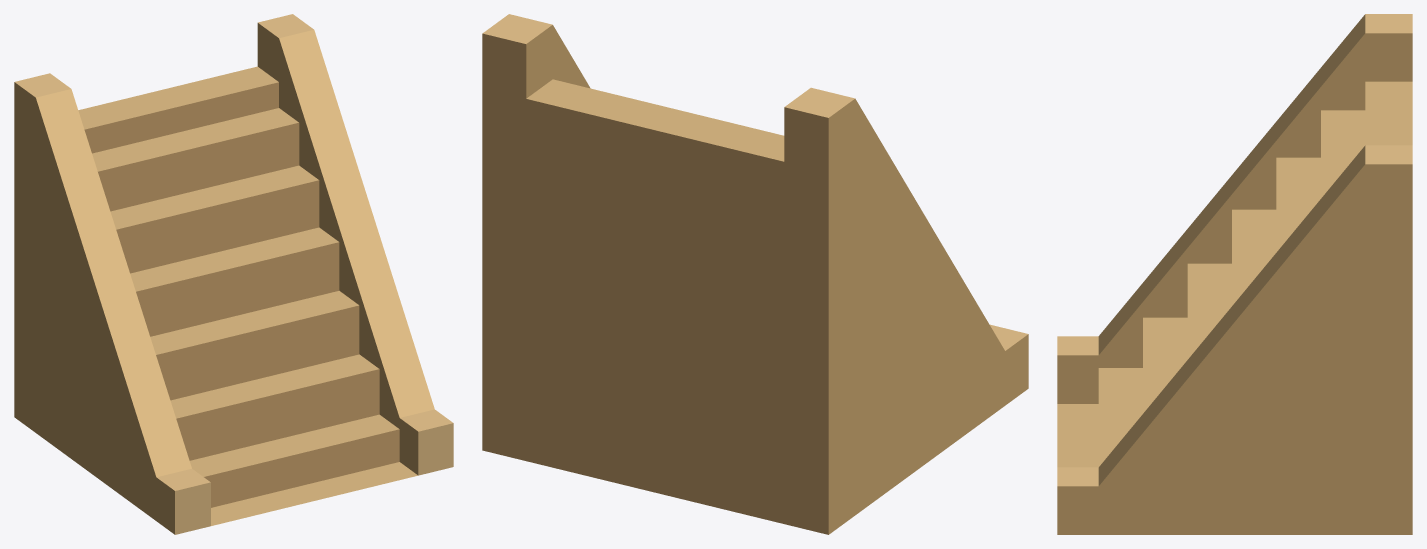
File: ST_Env_Stairs_01.fbx
The picture shows the model from 3 angles, left to right: view 1: azimuth 30°, elevation 25°; view 2: azimuth 150°, elevation 25°; view 3: azimuth 270°, elevation 25°; orthographic projection. The views are drawn at different scales.
Parts seen in each view (by area): view 1: ST_Env_Stairs_01; view 2: ST_Env_Stairs_01; view 3: ST_Env_Stairs_01.
Part boxes in pixels (x1,y1,x2,y2): ST_Env_Stairs_01: [14, 14, 453, 534]; ST_Env_Stairs_01: [482, 14, 1028, 534]; ST_Env_Stairs_01: [1057, 14, 1412, 534].
Bounding box in the file's own units: 2 × 2.3 × 2.
